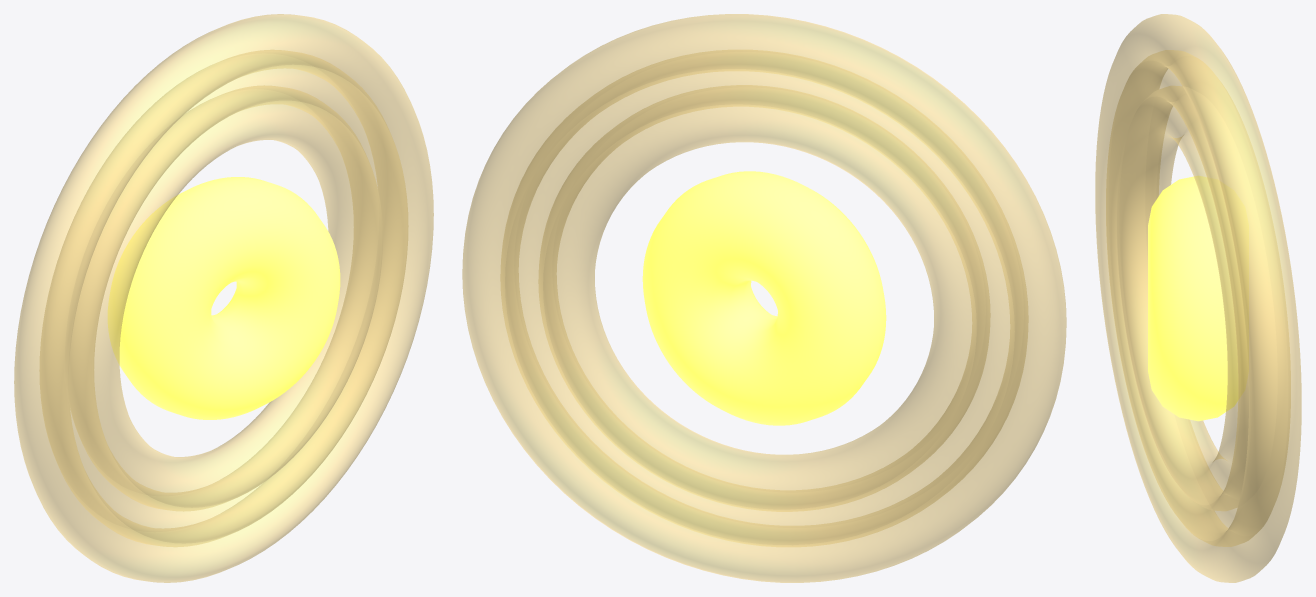
3 views of the same model, side by side, from view 1: azimuth 30°, elevation 25°; view 2: azimuth 150°, elevation 25°; view 3: azimuth 270°, elevation 25° (orthographic). The views are drawn at different scales.
Visible parts, largest first — view 1: Gyroscope 0, Gyroscope 1, Gyroscope 2, Solar nucleus; view 2: Gyroscope 0, Gyroscope 1, Gyroscope 2, Solar nucleus; view 3: Gyroscope 0, Gyroscope 1, Gyroscope 2, Solar nucleus.
Part boxes in pixels (x1=…): Gyroscope 0: x1=14, y1=14, x2=433, y2=582; Gyroscope 1: x1=39, y1=50, x2=408, y2=546; Gyroscope 2: x1=68, y1=85, x2=382, y2=511; Solar nucleus: x1=108, y1=177, x2=340, y2=419; Gyroscope 0: x1=462, y1=14, x2=1066, y2=582; Gyroscope 1: x1=500, y1=50, x2=1028, y2=546; Gyroscope 2: x1=538, y1=85, x2=990, y2=511; Solar nucleus: x1=642, y1=171, x2=886, y2=425; Gyroscope 0: x1=1095, y1=14, x2=1301, y2=582; Gyroscope 1: x1=1106, y1=50, x2=1290, y2=546; Gyroscope 2: x1=1116, y1=86, x2=1248, y2=510; Solar nucleus: x1=1148, y1=176, x2=1248, y2=421.
Bounding box in the file's own units: 2.28 × 2.38 × 0.8574.
